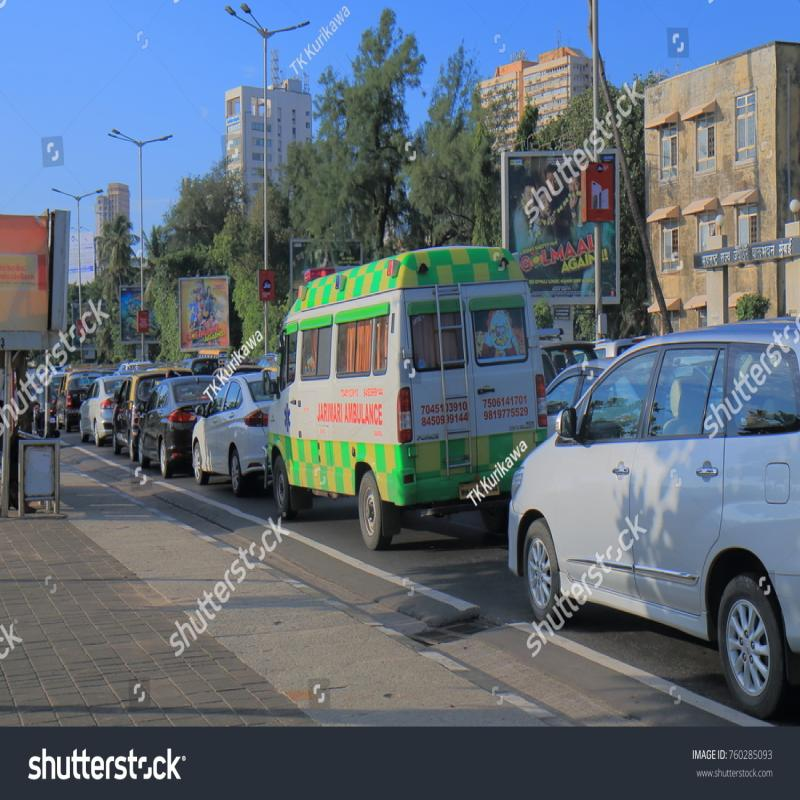ambulance: (281, 230, 540, 565)
